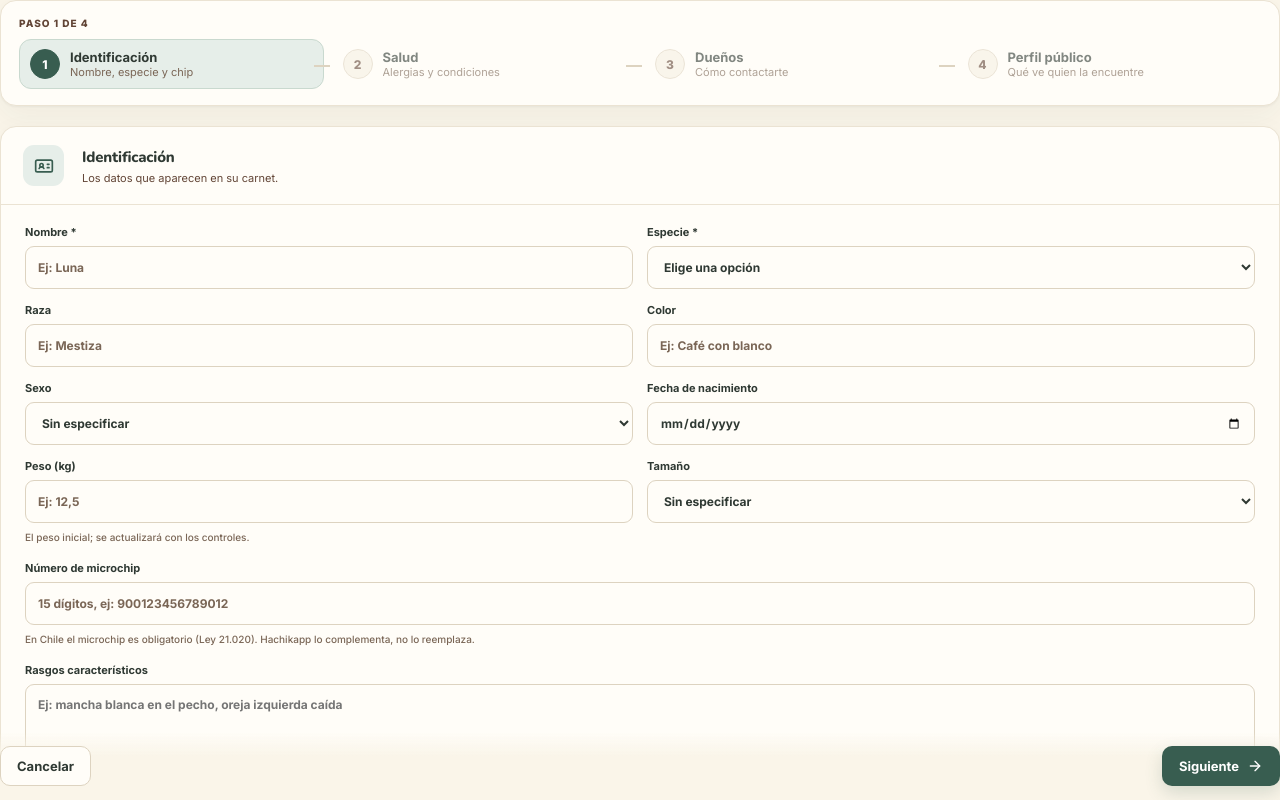
Test: PetForm wizard › clears a field error as soon as the field is edited
The width and height of the screenshot is (1280, 800).
Click the button "Siguiente" at (1221, 766), box [1162, 746, 1279, 786]
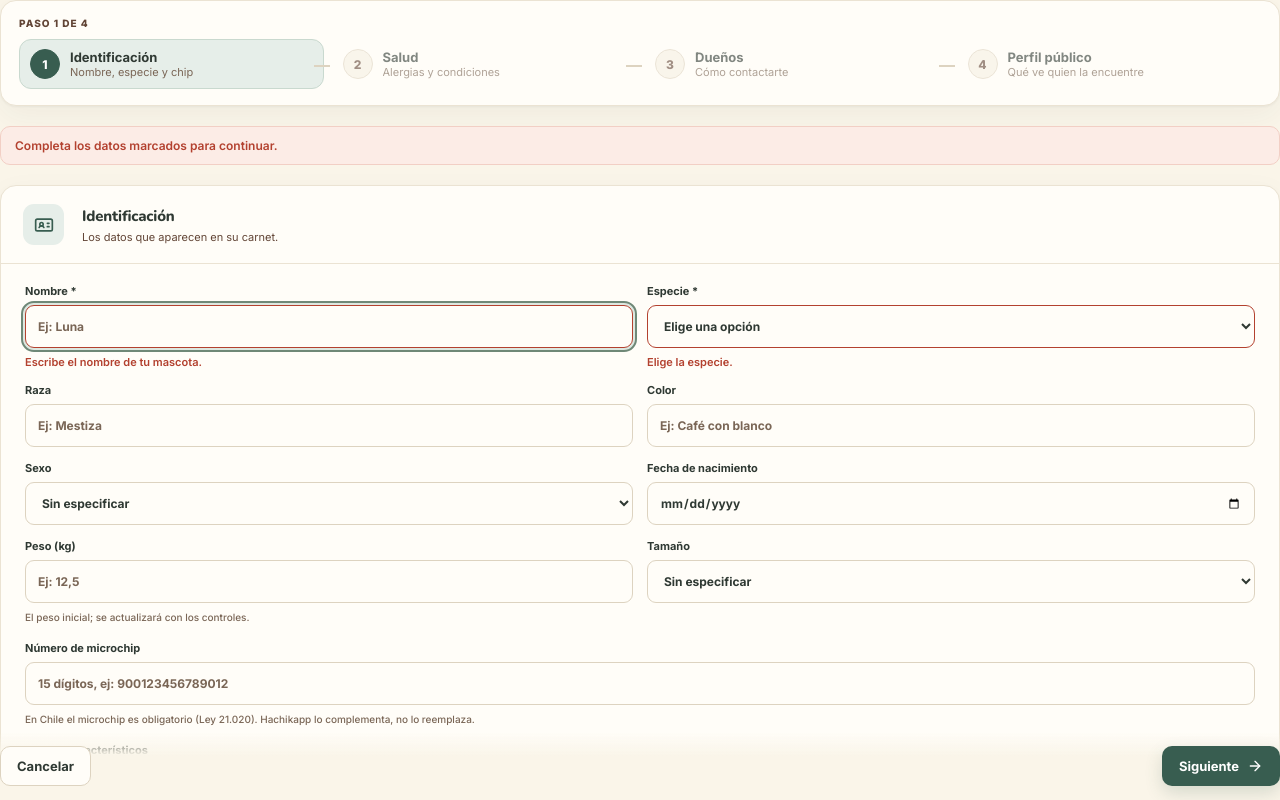
Type "L" into the field labelled "Nombre * Escribe el nombre de tu mascota." at (329, 326), box [25, 305, 633, 348]
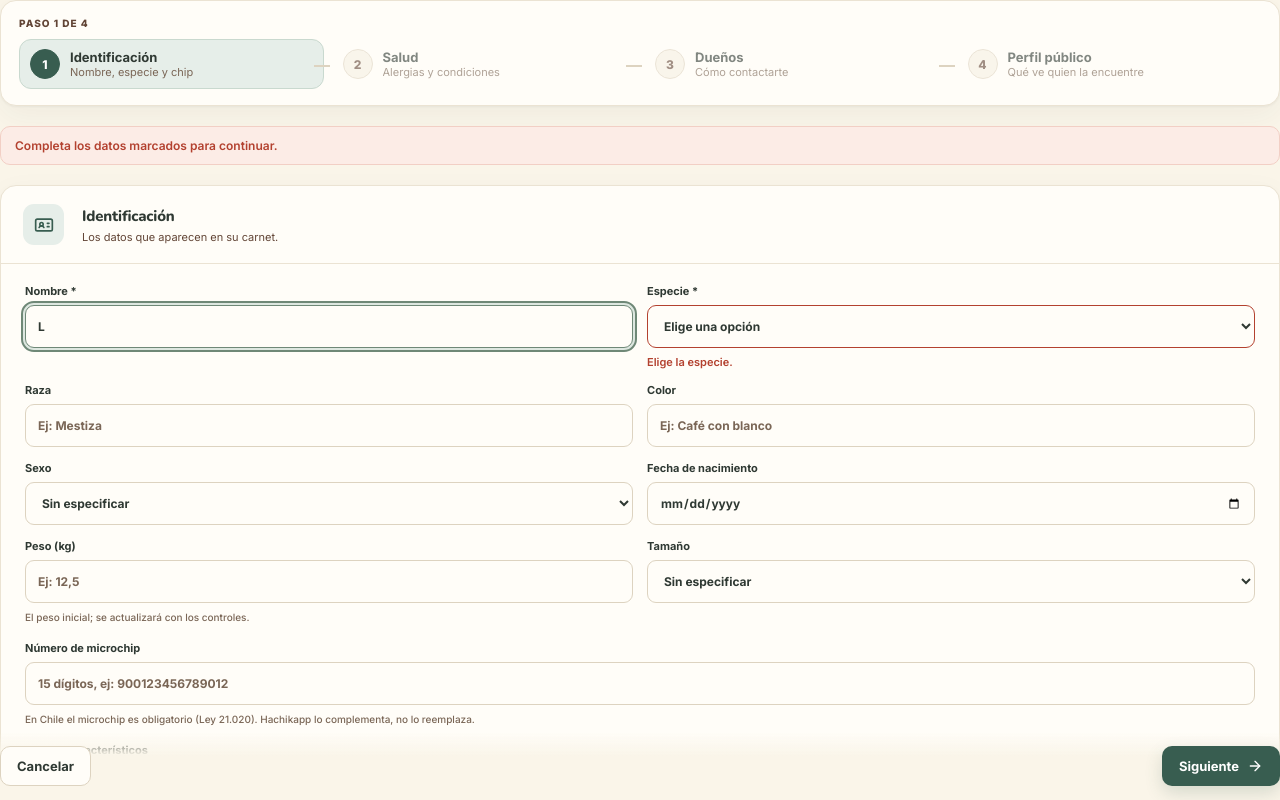
expect the text "Escribe el nombre de tu mascota." is gone: met
